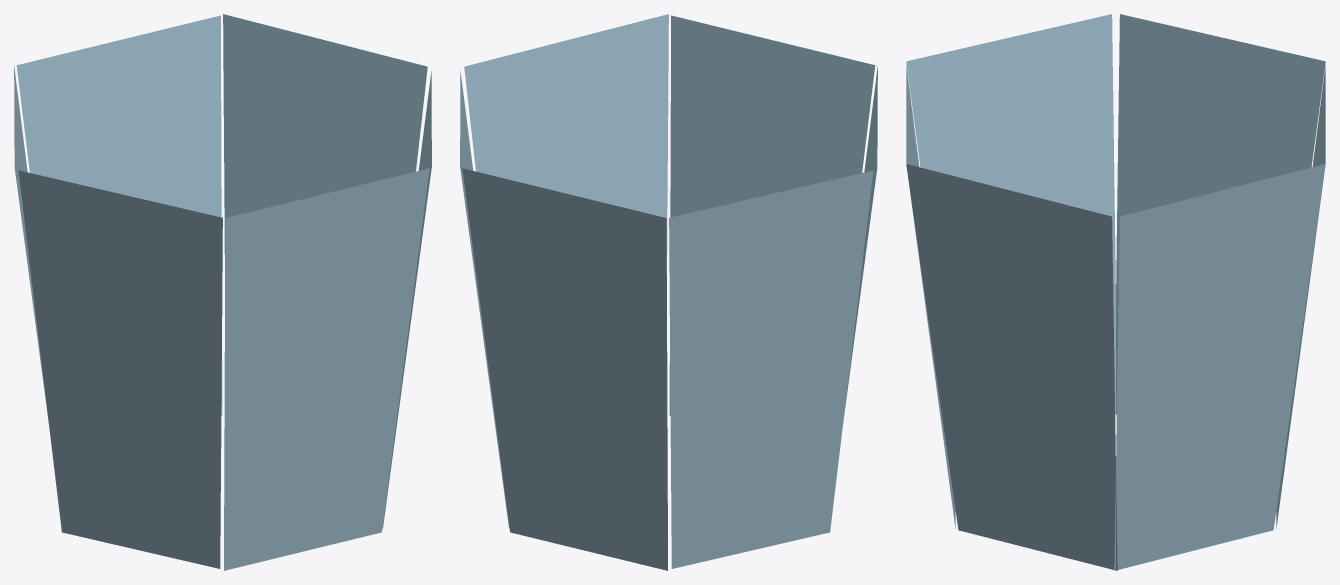
Rendered from FairyTale305.gltf.
3 views of the same model, side by side, from view 1: azimuth 30°, elevation 25°; view 2: azimuth 150°, elevation 25°; view 3: azimuth 270°, elevation 25° (orthographic).
Parts seen in each view (by area): view 1: 网格.267_1; view 2: 网格.267_1; view 3: 网格.267_1.
Boxes of the visible parts, x1=… form: 网格.267_1: x1=14, y1=14, x2=431, y2=570; 网格.267_1: x1=460, y1=14, x2=877, y2=570; 网格.267_1: x1=906, y1=14, x2=1325, y2=570.
Size of the model in its own units: 0.1676 by 0.1465 by 0.1467.
